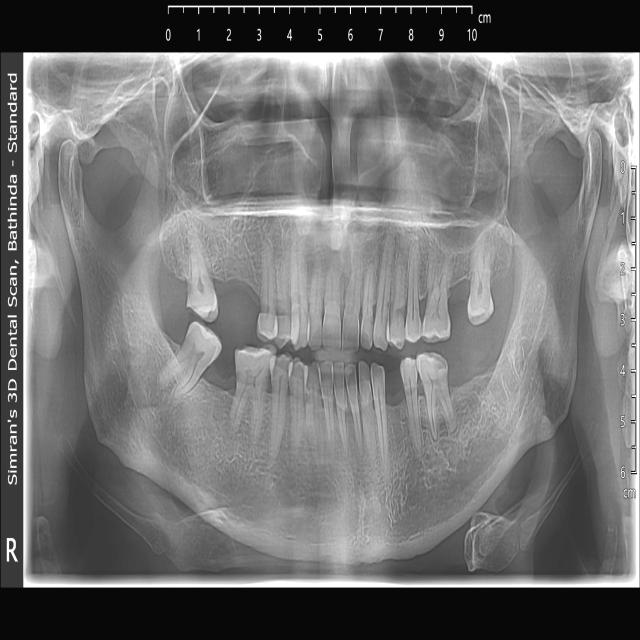Caries: (186, 279, 216, 323), (415, 351, 445, 382), (390, 303, 405, 351)
Missing teeth: (214, 256, 259, 310), (453, 360, 483, 419), (201, 363, 232, 415), (388, 382, 409, 452), (452, 264, 467, 317)
